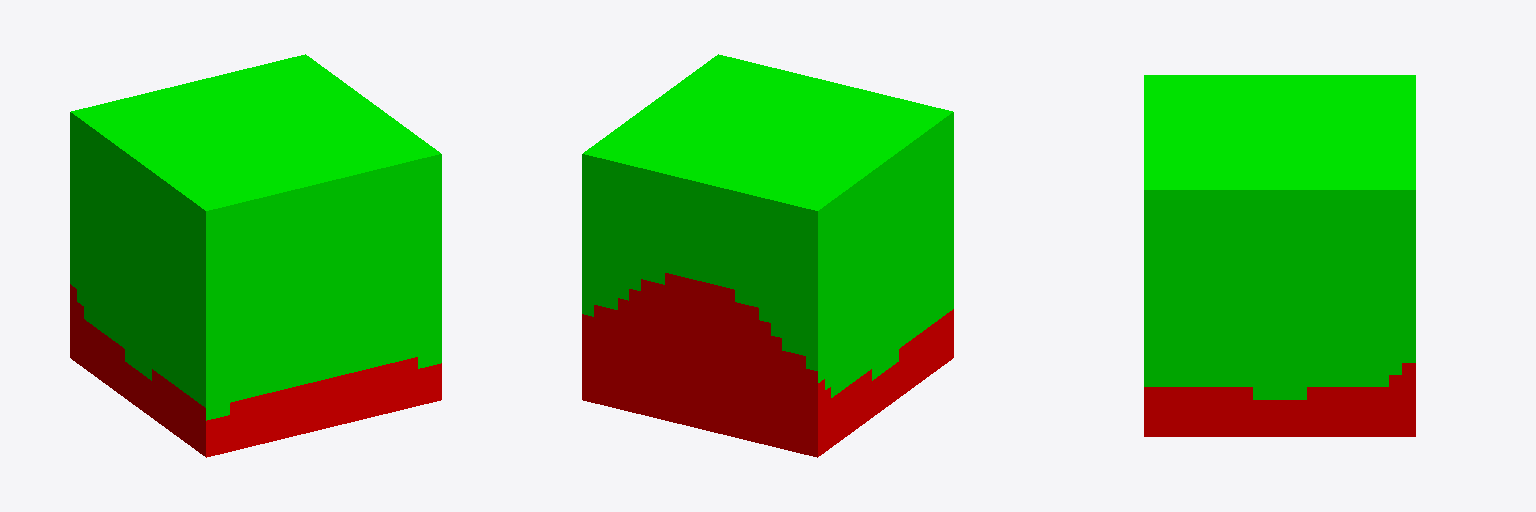
3 views of the same model, side by side, from view 1: azimuth 30°, elevation 25°; view 2: azimuth 150°, elevation 25°; view 3: azimuth 270°, elevation 25° (orthographic).
Visible parts, largest first — view 1: cube; view 2: cube; view 3: cube.
Boxes of the visible parts, <box> form: cube: <box>70,54,441,457</box>; cube: <box>582,54,953,457</box>; cube: <box>1144,75,1415,436</box>.
Bounding box in the file's own units: 0.125 × 0.125 × 0.125.
Materials: 1 (1 with a texture image).